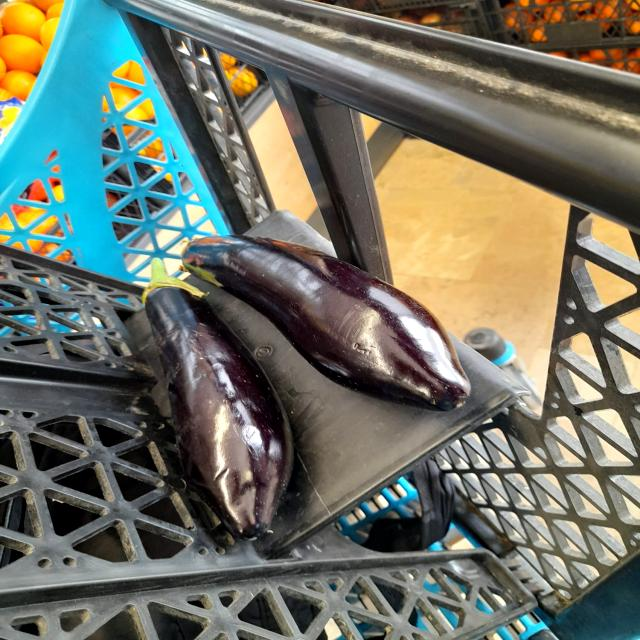eggplant: (182, 223, 474, 418), (126, 248, 298, 541)
